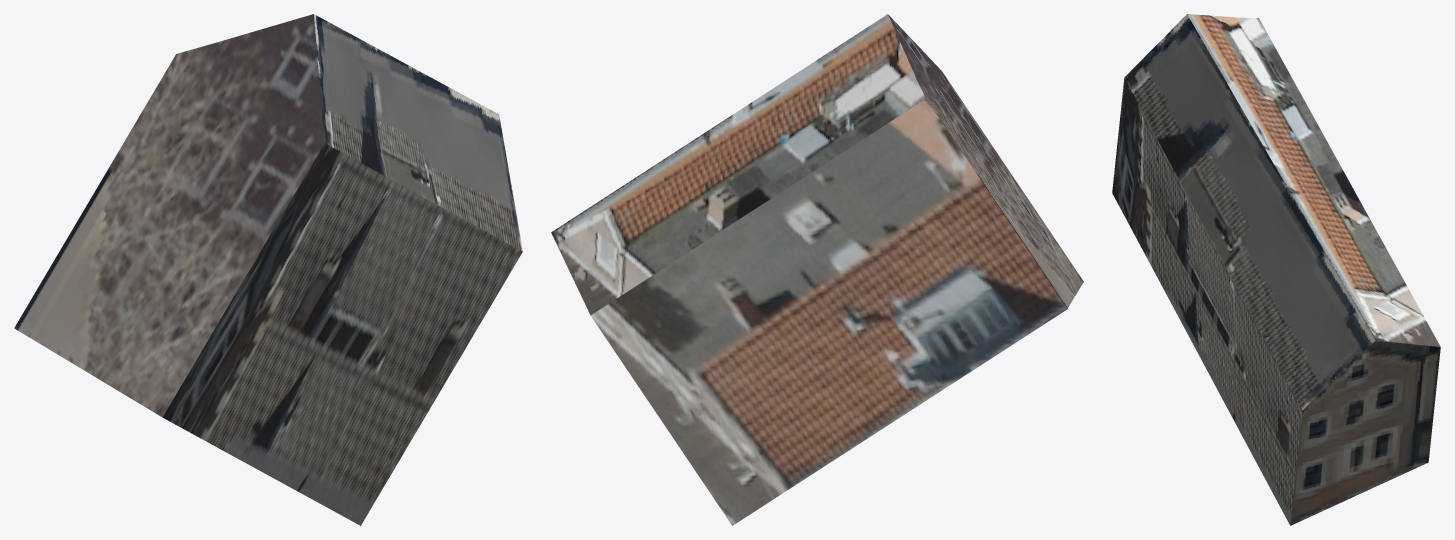
The picture shows the model from 3 angles, left to right: view 1: azimuth 30°, elevation 25°; view 2: azimuth 150°, elevation 25°; view 3: azimuth 270°, elevation 25°; orthographic projection. The views are drawn at different scales.
Parts seen in each view (by area): view 1: BAG_0599100000656923 (×3); view 2: BAG_0599100000656923 (×3); view 3: BAG_0599100000656923 (×3).
Boxes of the visible parts, x1,y1,x2,y2 form: BAG_0599100000656923 (×3): (14,14,522,525); BAG_0599100000656923 (×3): (551,14,1083,525); BAG_0599100000656923 (×3): (1112,14,1440,525).
Size of the model in its own units: 15.77 by 15.62 by 9.93.
Materials: 3 (3 with a texture image).
